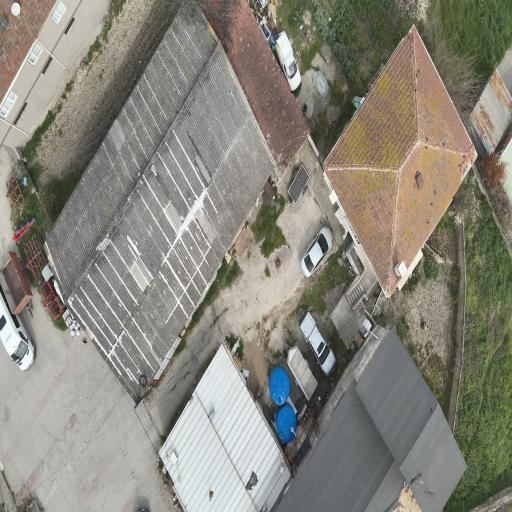car: (0, 294, 35, 370), (300, 311, 335, 375), (275, 31, 301, 91), (302, 227, 333, 277)
